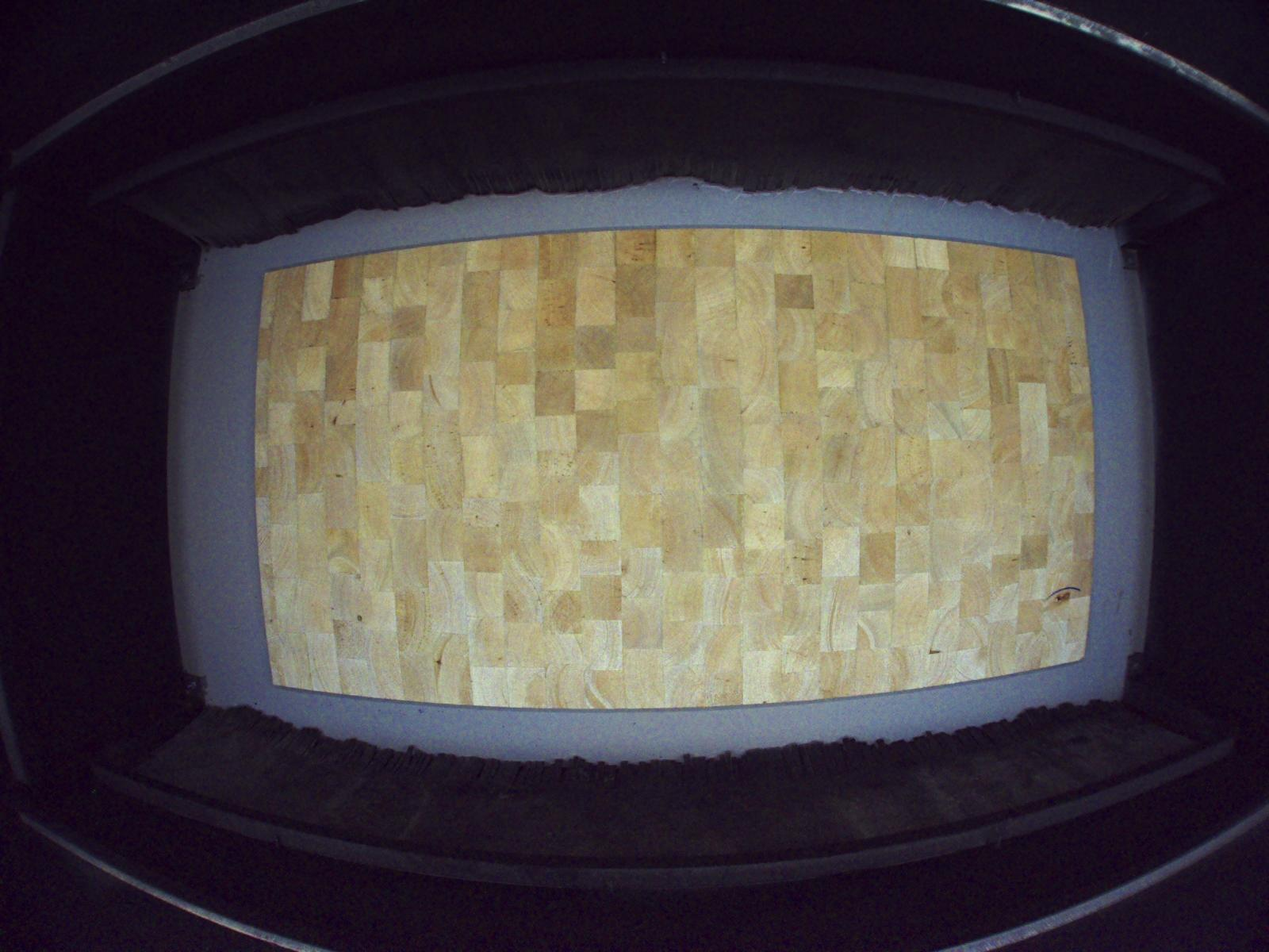nudillo: (1054, 590, 1072, 607)
sheck_ecuatoriano: (928, 606, 959, 654), (435, 633, 457, 690)
